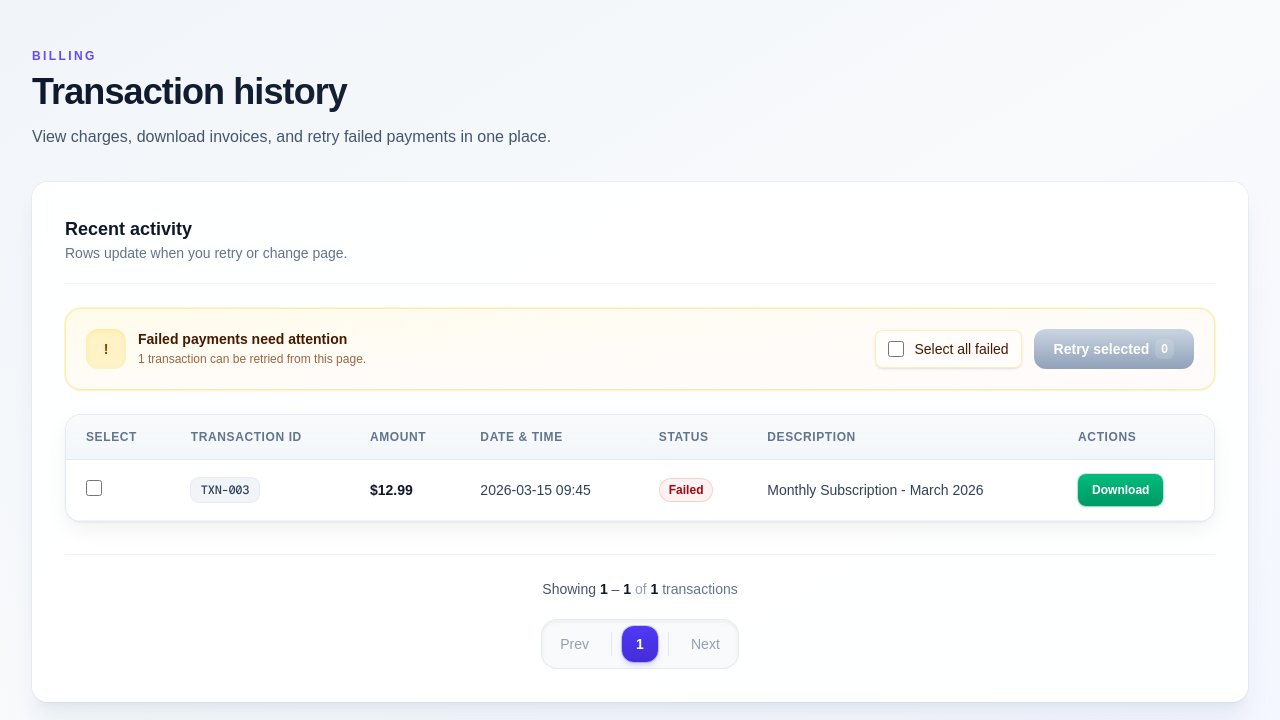
Scenario: TransactionDashboard › shows per-retry toast notifications with status styling after retry completes
This screenshot has width=1280, height=720.
Expected: the heading "Transaction history" is shown, left=32, top=72, right=1248, bottom=112
Click the checkbox labelled "Select all failed": (896, 349) left=888, top=341, right=904, bottom=357
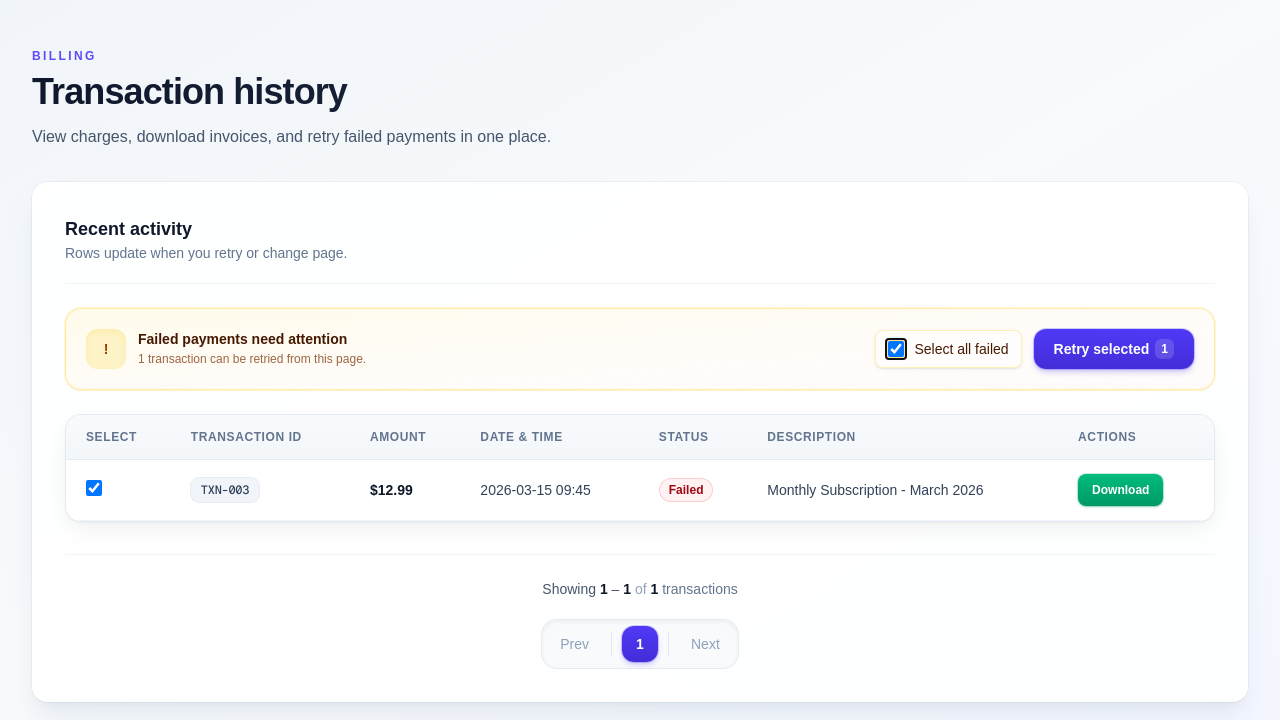
Click the button "Retry selected 1": (1114, 349) left=1034, top=329, right=1194, bottom=369
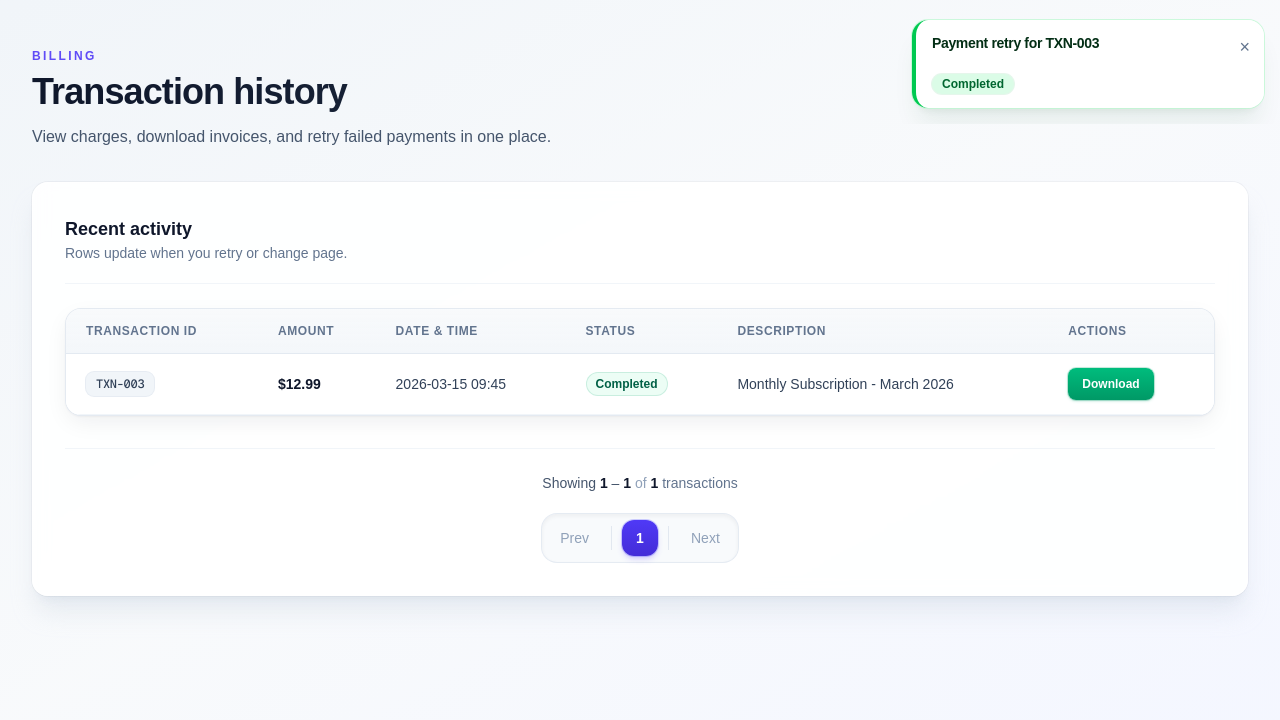
Result: the text "Payment retry for TXN-003" is shown at left=932, top=34, right=1099, bottom=53
Result: the text "Payment retry for TXN-003 × Completed" is shown at left=912, top=20, right=1264, bottom=108
Result: the text "Completed" below "Payment retry for TXN-003" is shown at left=942, top=77, right=1004, bottom=91
Click the button named "dismiss notification": (1245, 48) left=1234, top=30, right=1256, bottom=66
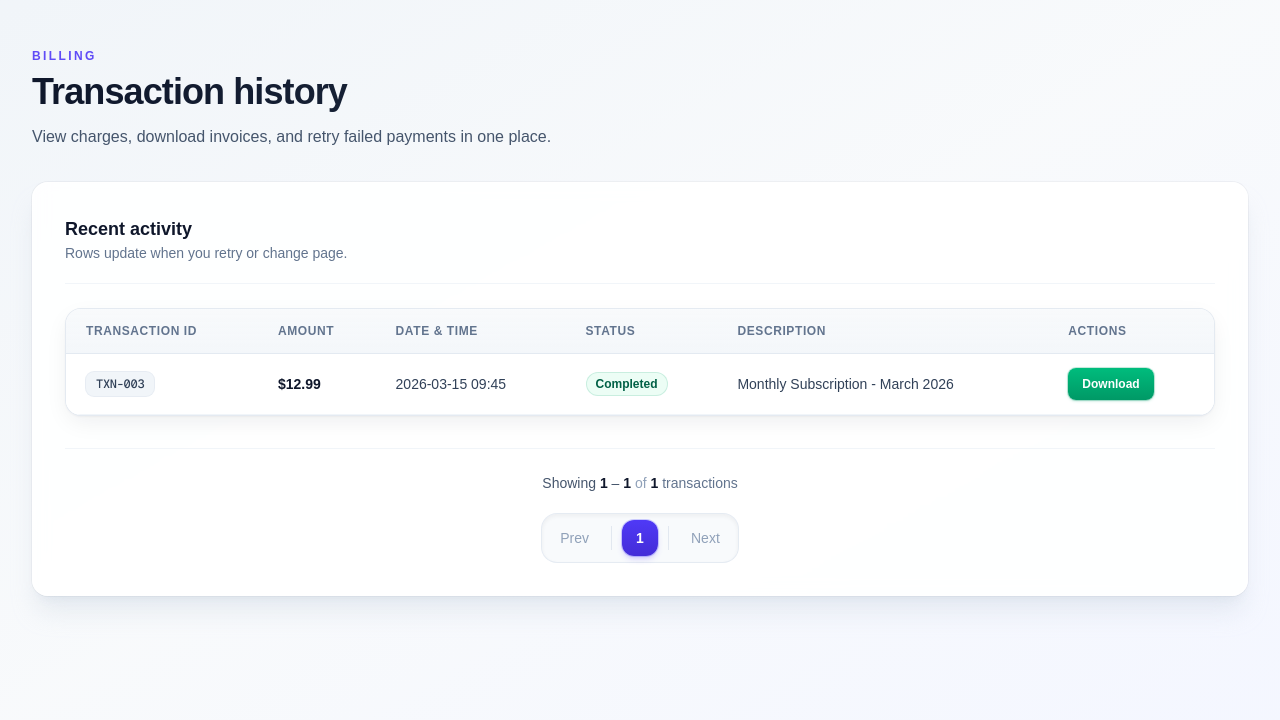
Result: the text "Payment retry for TXN-003" is gone
